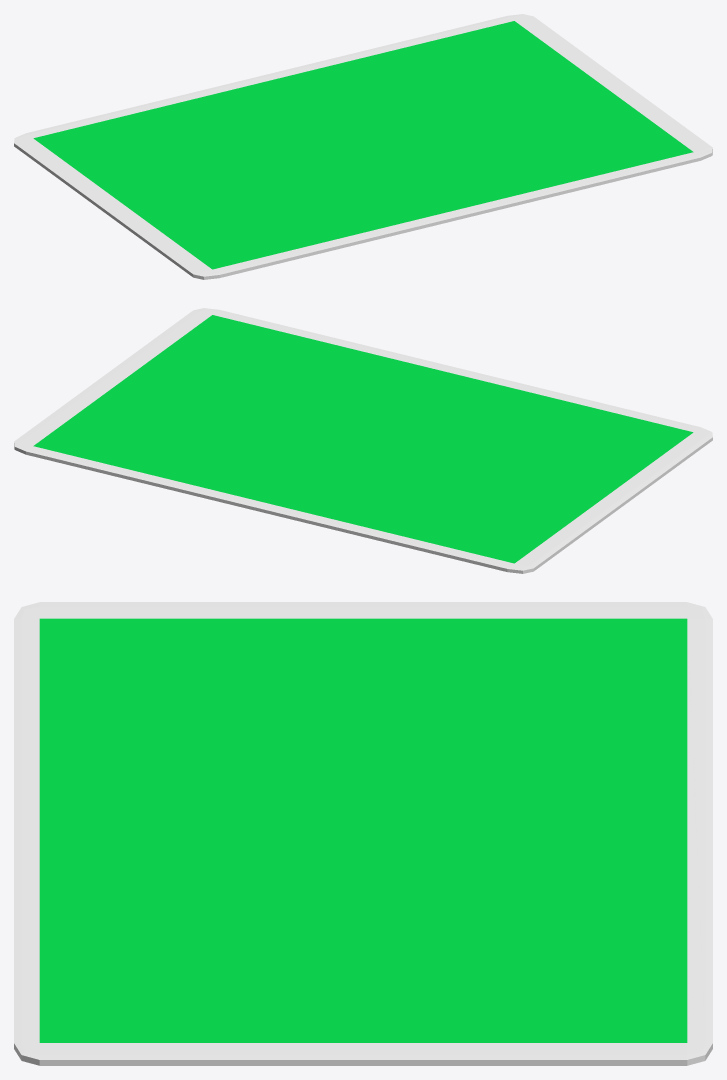
Rendered from card.glb.
3 renders of one model, top to bottom at view 1: azimuth 30°, elevation 25°; view 2: azimuth 150°, elevation 25°; view 3: azimuth 270°, elevation 25°, orthographic. The views are drawn at different scales.
Parts seen in each view (by area): view 1: Cube; view 2: Cube; view 3: Cube.
Boxes of the visible parts, <box> form: Cube: <box>14,14,712,279</box>; Cube: <box>14,308,712,573</box>; Cube: <box>14,602,712,1065</box>.
Bounding box in the file's own units: 3.1 × 0.02 × 2.
